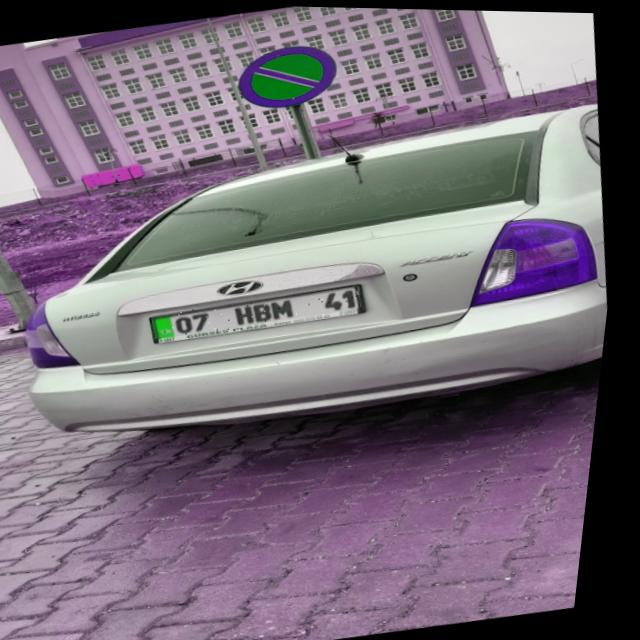license_plate: (157, 281, 370, 342)
